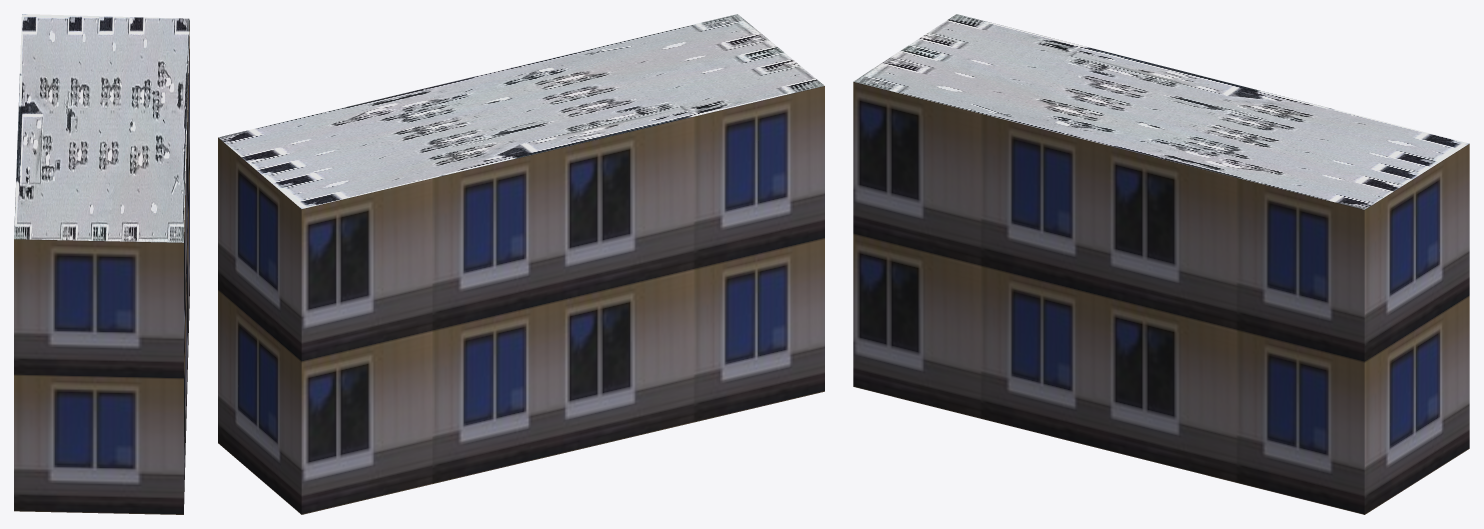
The model's file is ResTex__2028.fbx.
3 views of the same model, side by side, from view 1: azimuth 30°, elevation 25°; view 2: azimuth 150°, elevation 25°; view 3: azimuth 270°, elevation 25° (orthographic). The views are drawn at different scales.
Parts seen in each view (by area): view 1: CityEngineMaterial_5_m, CityEngineMaterial_2_m; view 2: CityEngineMaterial_5_m, CityEngineMaterial_2_m; view 3: CityEngineMaterial_5_m, CityEngineMaterial_2_m.
Boxes of the visible parts, left/top/right/bottom form: CityEngineMaterial_5_m: left=14, top=24, right=189, bottom=514; CityEngineMaterial_2_m: left=14, top=14, right=189, bottom=242; CityEngineMaterial_5_m: left=218, top=86, right=824, bottom=514; CityEngineMaterial_2_m: left=218, top=14, right=824, bottom=208; CityEngineMaterial_5_m: left=853, top=82, right=1469, bottom=514; CityEngineMaterial_2_m: left=853, top=14, right=1469, bottom=209.
Bounding box in the file's own units: 8.26 × 6 × 10.99.
Materials: 2 (2 with a texture image).
